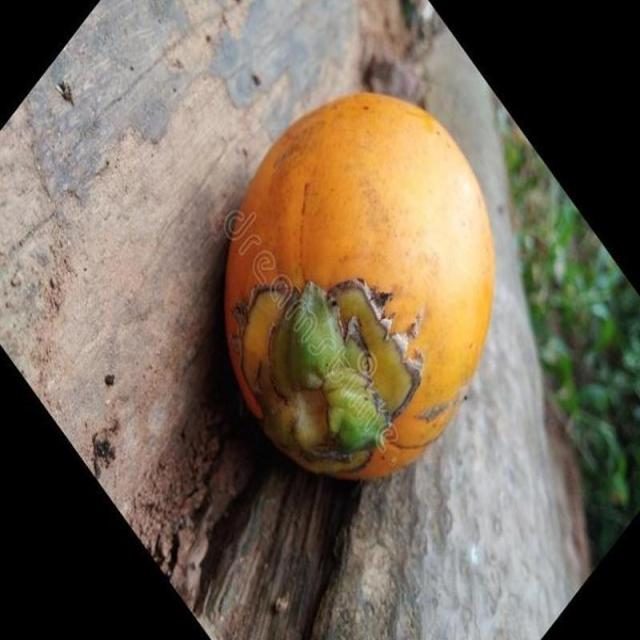good: (222, 93, 497, 485)
